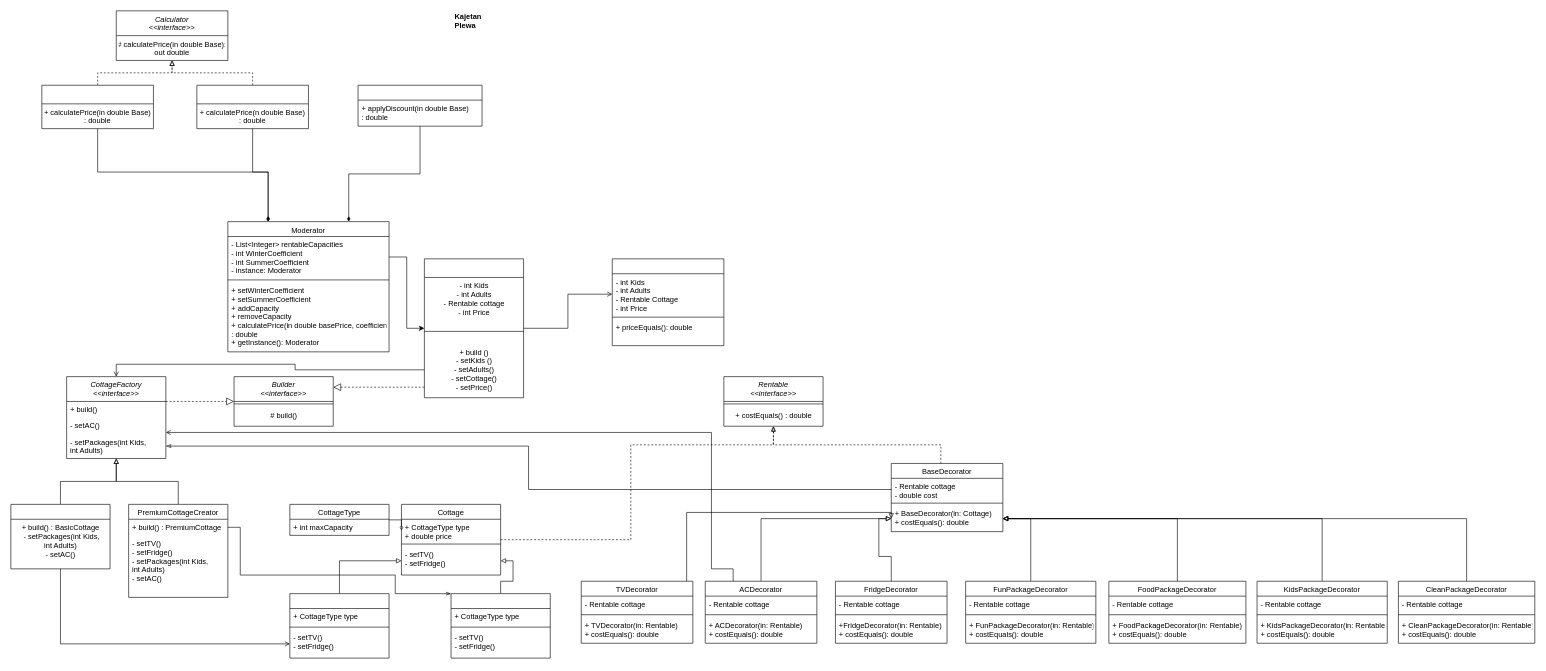
Image size: 1546x671. Some labels were removed from this diagram. Each missing label, with the box of its shape:
BasicCottage: (289, 593, 389, 658)
BasicCottageCreator: (10, 504, 110, 569)
Discounter: (357, 85, 482, 126)
PremiumCottage: (450, 593, 550, 658)
Reservation: (612, 258, 724, 346)
ReservationBuilder: (424, 258, 524, 398)
SummerCalculator: (196, 85, 308, 129)
WinterCalculator: (41, 85, 153, 129)
